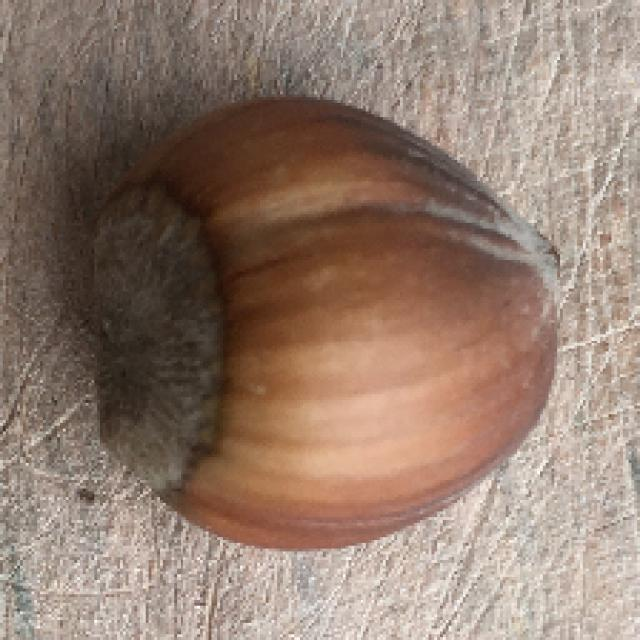damagedHazelnut: (70, 97, 565, 545)
